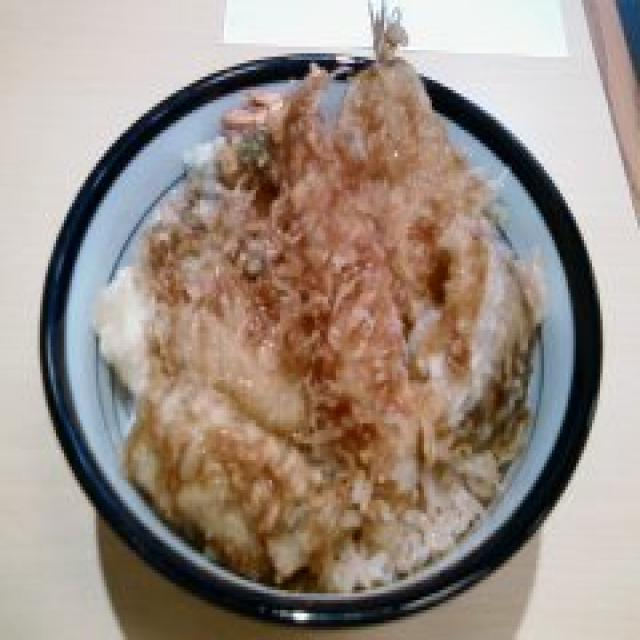熟制海鲜: (0, 30, 640, 640)
